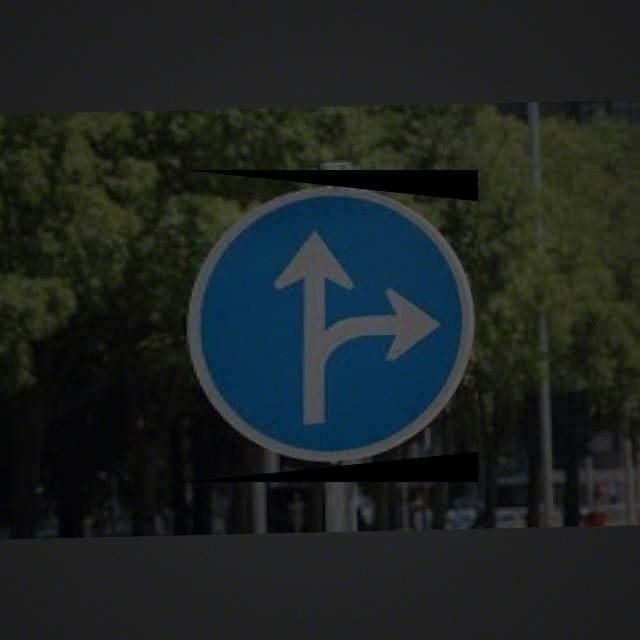Compulsory_Ahead_or_Turn_Right: (183, 170, 478, 482)
